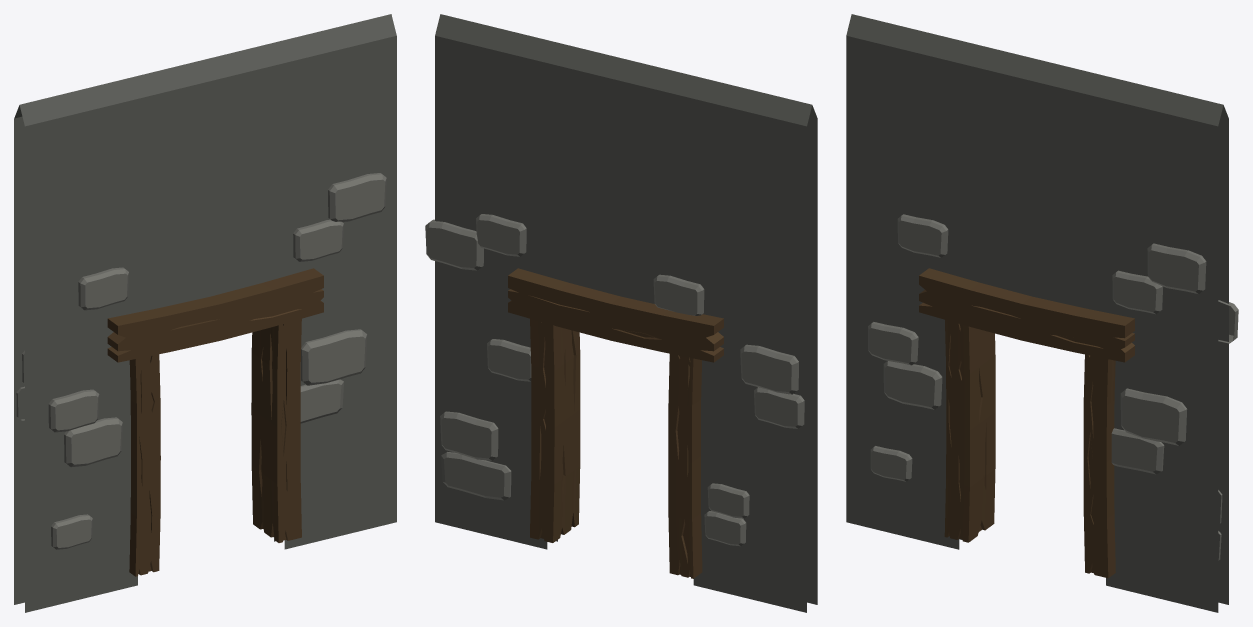
Rendered from Dungeon_Passage_Wood.glb.
3 views of the same model, side by side, from view 1: azimuth 30°, elevation 25°; view 2: azimuth 150°, elevation 25°; view 3: azimuth 330°, elevation 25° (orthographic).
Parts seen in each view (by area): view 1: Dungeon_Passage_Wood.001; view 2: Dungeon_Passage_Wood.001; view 3: Dungeon_Passage_Wood.001.
Boxes of the visible parts, x1=… form: Dungeon_Passage_Wood.001: x1=14, y1=14, x2=396, y2=612; Dungeon_Passage_Wood.001: x1=425, y1=14, x2=817, y2=612; Dungeon_Passage_Wood.001: x1=846, y1=14, x2=1238, y2=612.
Size of the model in its own units: 4.08 by 5.18 by 0.5789.
Materials: 2 (2 with a texture image).
